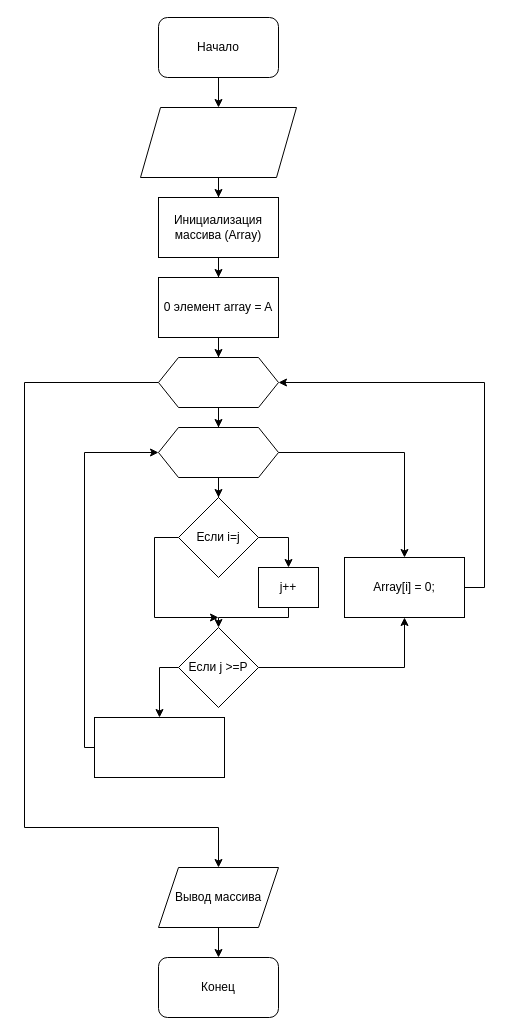
Image size: 510x1035. Some labels were removed from this diagram. Each missing label, with the centre of its shape:
Array[j] + остаток от Array[i]: point (159, 747)
i = 0; i < P; i++: point (218, 382)
j = 0; j < P; j++: point (218, 452)
Ввод количество нарванных яблок(A) и лиц(P): point (218, 142)
